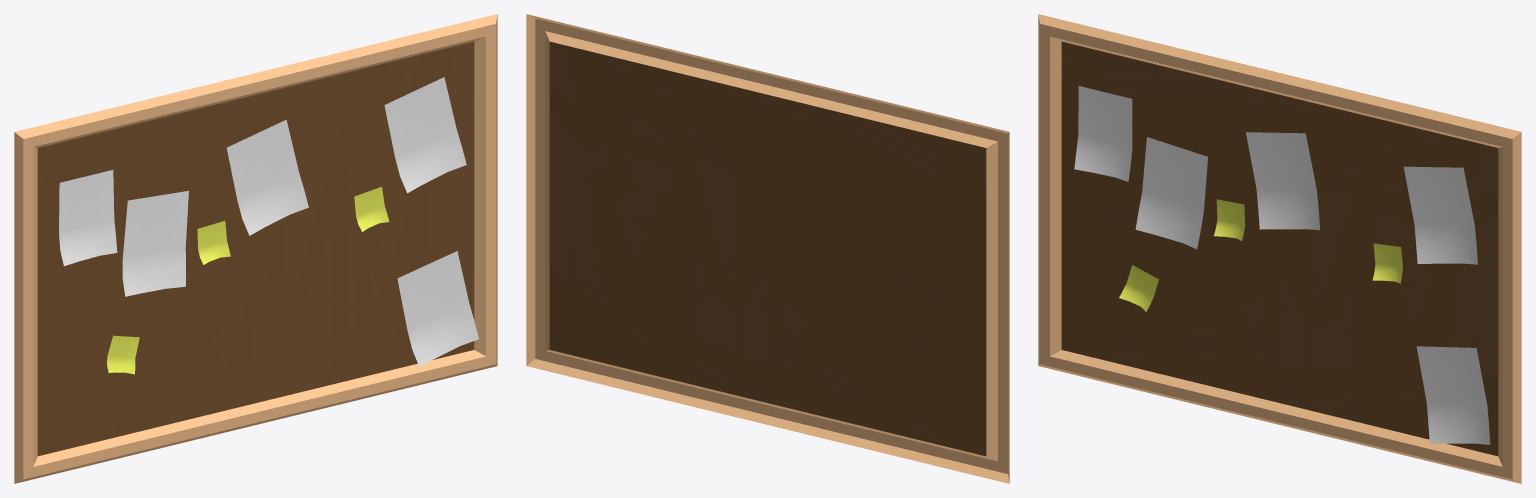
Rendered from NoticeBoard.fbx.
3 renders of one model, left to right at view 1: azimuth 30°, elevation 25°; view 2: azimuth 150°, elevation 25°; view 3: azimuth 330°, elevation 25°, orthographic.
Visible parts, largest first — view 1: Notice_Board; view 2: Notice_Board; view 3: Notice_Board.
Part boxes in pixels (x1,y1,x2,y2): Notice_Board: [14, 14, 497, 483]; Notice_Board: [526, 14, 1009, 483]; Notice_Board: [1038, 14, 1521, 483].
Bounding box in the file's own units: 230 × 160 × 5.65.
Materials: 1 (1 with a texture image).
